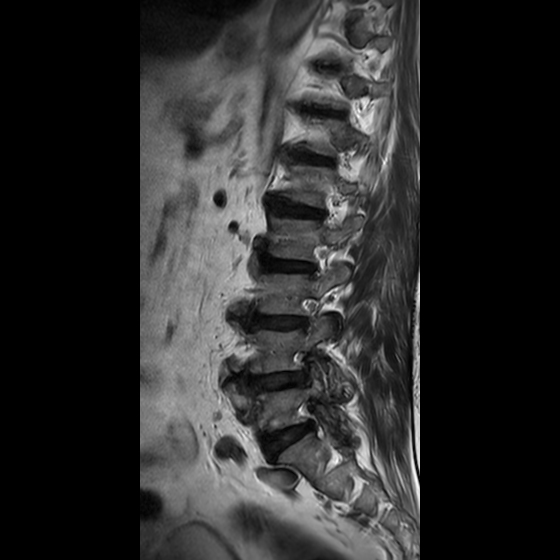LFS1: (296, 234, 332, 287)
LFS2: (289, 288, 325, 341)
LFS3: (286, 342, 322, 395)
